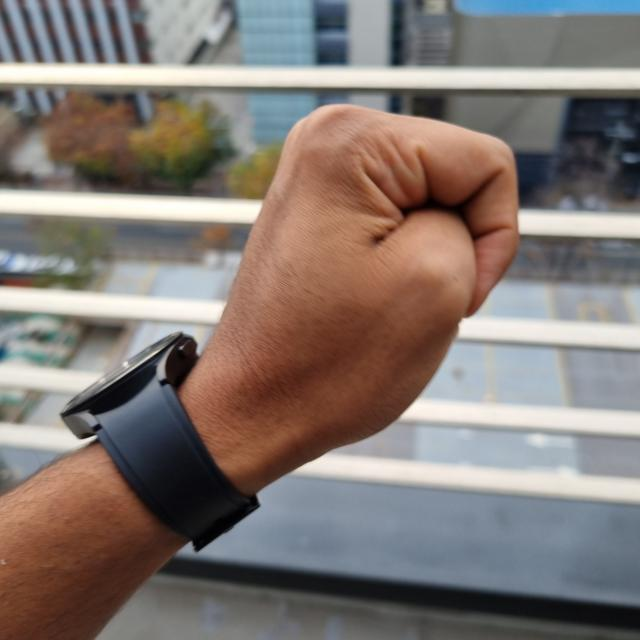Rock: (181, 105, 520, 480)
